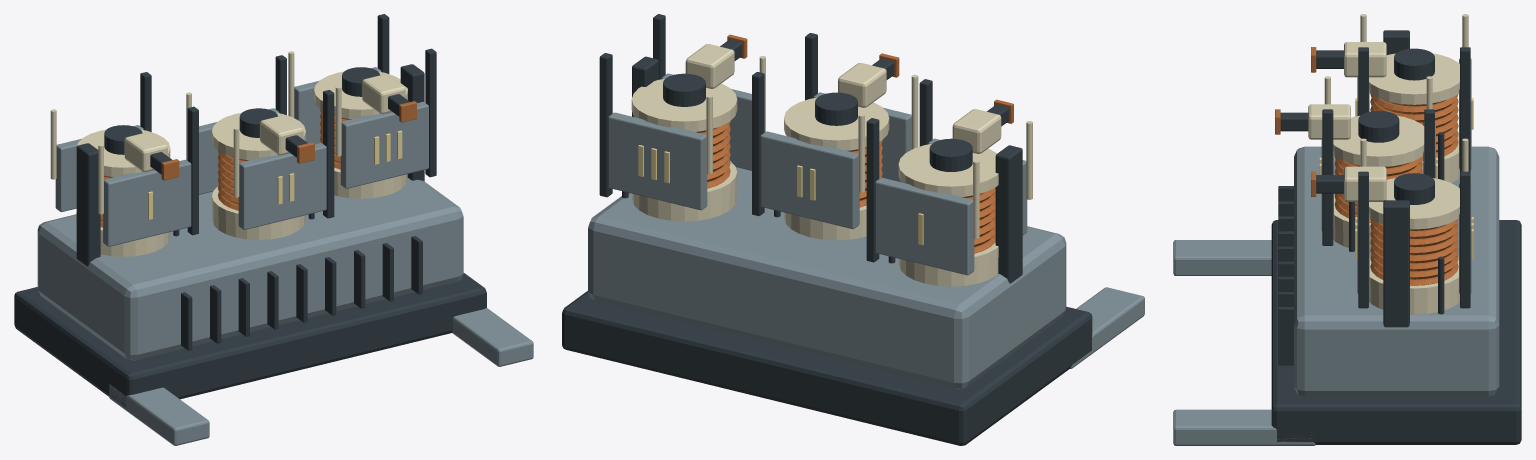
Rendered from custodian.glb.
The picture shows the model from 3 angles, left to right: view 1: azimuth 30°, elevation 25°; view 2: azimuth 150°, elevation 25°; view 3: azimuth 270°, elevation 25°; orthographic projection. The views are drawn at different scales.
Parts seen in each view (by area): view 1: Cast_power_housing, Foundation, Shutter_0_1, Shutter_1_1, Shutter_2_1, Outrigger_0, Outrigger_1, Bearing_0, Collar_1_1, Shutter_0_0, Collar_2_1, Rail_1_1 (+28 smaller); view 2: Cast_power_housing, Foundation, Shutter_0_0, Shutter_1_0, Shutter_2_0, Bearing_0, Collar_2_1, Collar_0_1, Collar_1_1, Outrigger_0, Rail_0_0, Rail_2_0 (+18 smaller); view 3: Cast_power_housing, Foundation, Outrigger_1, Outrigger_0, Bearing_1, Collar_1_1, Collar_0_1, Collar_2_1, Rail_2_0, Rail_2_1, Rail_1_1, Head_1 (+26 smaller).
Boxes of the visible parts, x1,y1,x2,y2 form: Cast_power_housing: (37,178,463,360); Foundation: (14,273,486,406); Shutter_0_1: (103,159,191,246); Shutter_1_1: (238,143,326,229); Shutter_2_1: (340,102,428,188); Outrigger_0: (109,384,209,445); Outrigger_1: (452,308,533,366); Bearing_0: (76,143,100,266); Collar_1_1: (212,113,305,160); Shutter_0_0: (55,125,143,212); Collar_2_1: (314,71,407,118); Rail_1_1: (323,90,334,218); Cast_power_housing: (588,167,1066,388); Foundation: (562,291,1092,445); Shutter_0_0: (875,177,974,275); Shutter_1_0: (760,131,859,229); Shutter_2_0: (608,112,707,210); Bearing_0: (995,145,1022,283); Collar_2_1: (631,78,737,131); Collar_0_1: (898,144,998,196); Collar_1_1: (784,97,889,150); Outrigger_0: (1070,287,1144,368); Rail_0_0: (866,118,879,262); Rail_2_0: (599,53,612,197); Cast_power_housing: (1294,146,1499,396); Foundation: (1271,220,1521,444); Outrigger_1: (1173,409,1315,445); Outrigger_0: (1173,240,1271,275); Bearing_1: (1383,200,1409,327); Collar_1_1: (1333,115,1424,166); Collar_0_1: (1369,53,1459,104); Collar_2_1: (1369,178,1459,229); Rail_2_0: (1460,171,1470,308); Rail_2_1: (1358,171,1368,308); Rail_1_1: (1322,109,1333,245); Head_1: (1308,104,1350,139).
Bounding box in the file's own units: 5 × 3.29 × 3.9.
